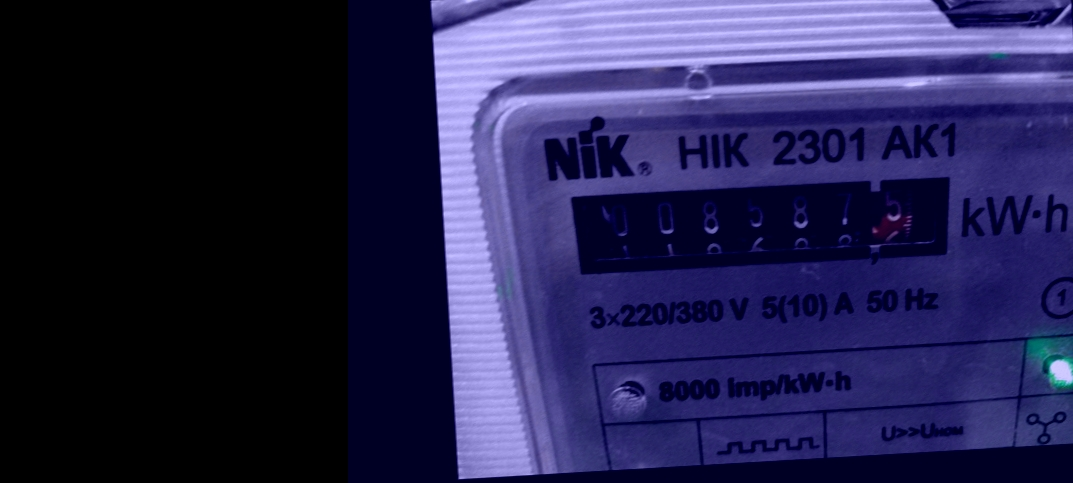0: (653, 198, 679, 239)
1: (607, 200, 633, 242)
5: (881, 185, 908, 227), (744, 193, 769, 233)
7: (833, 189, 858, 231)
8: (697, 197, 724, 239), (789, 192, 812, 234)
screen: (550, 156, 975, 299)
